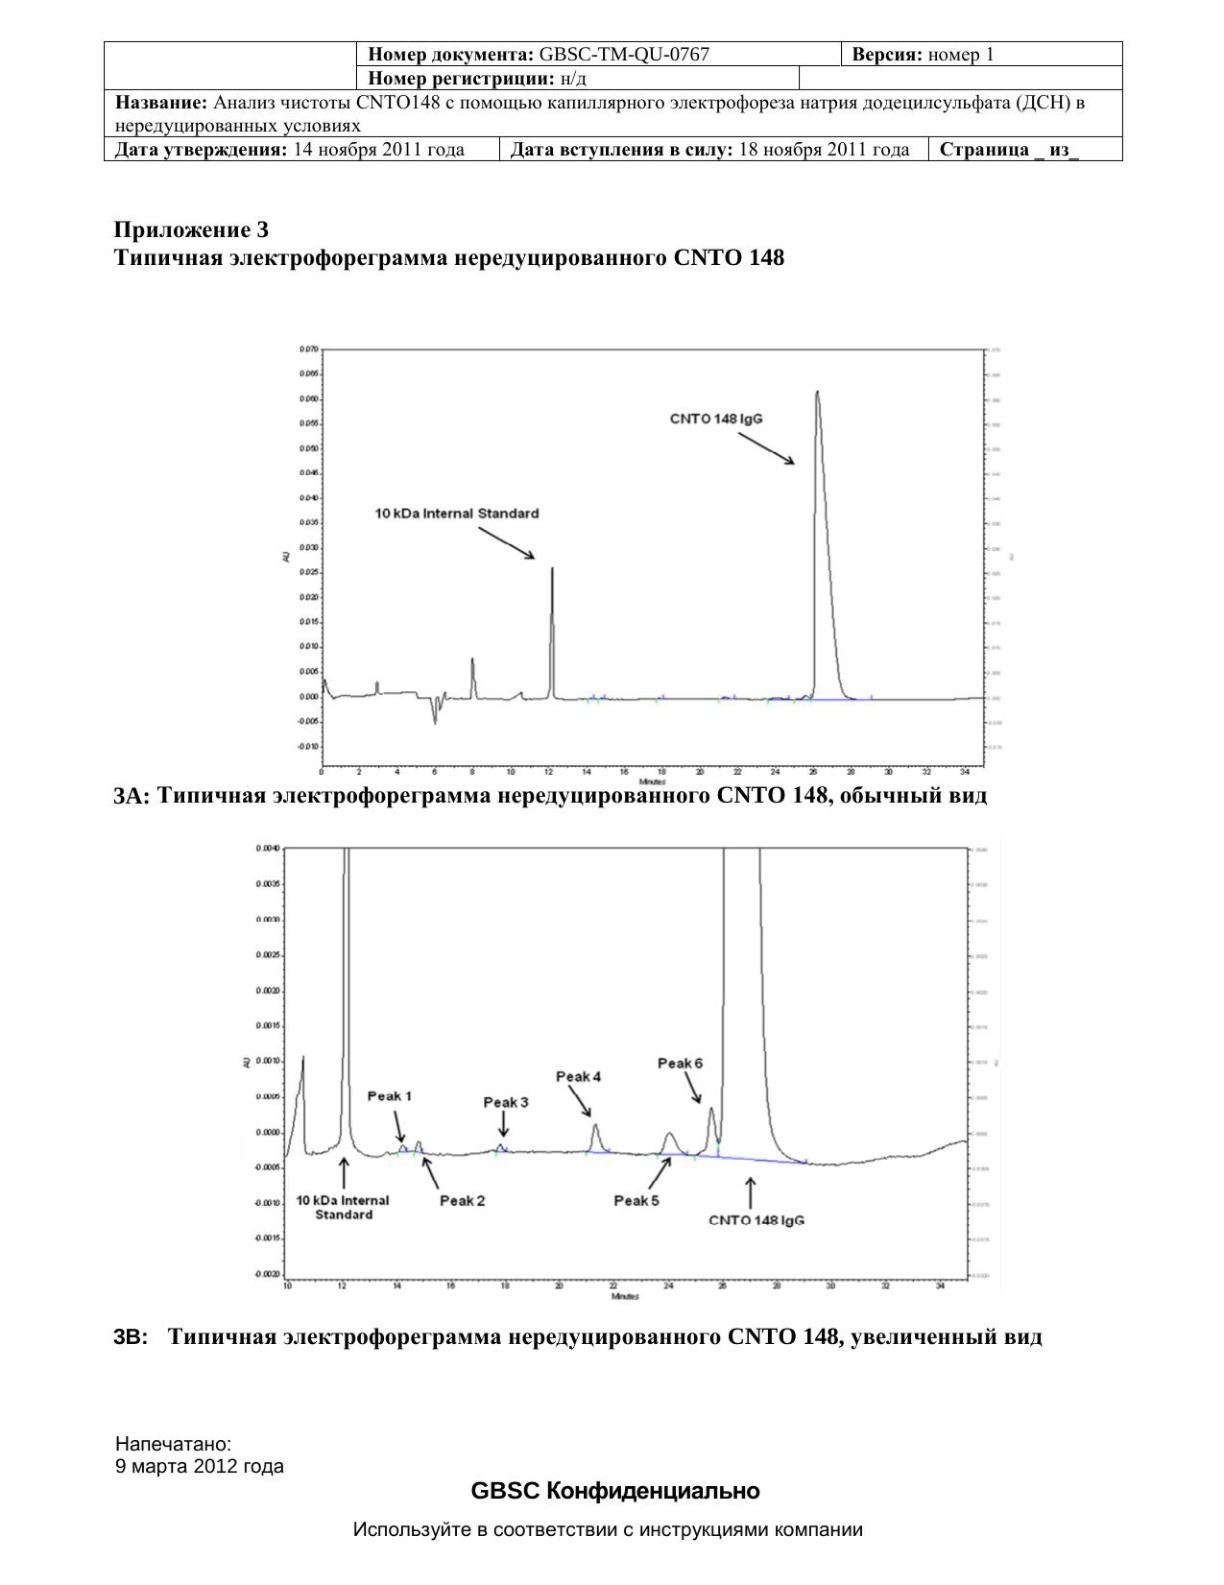merged_cells: (103, 40, 1124, 162)
